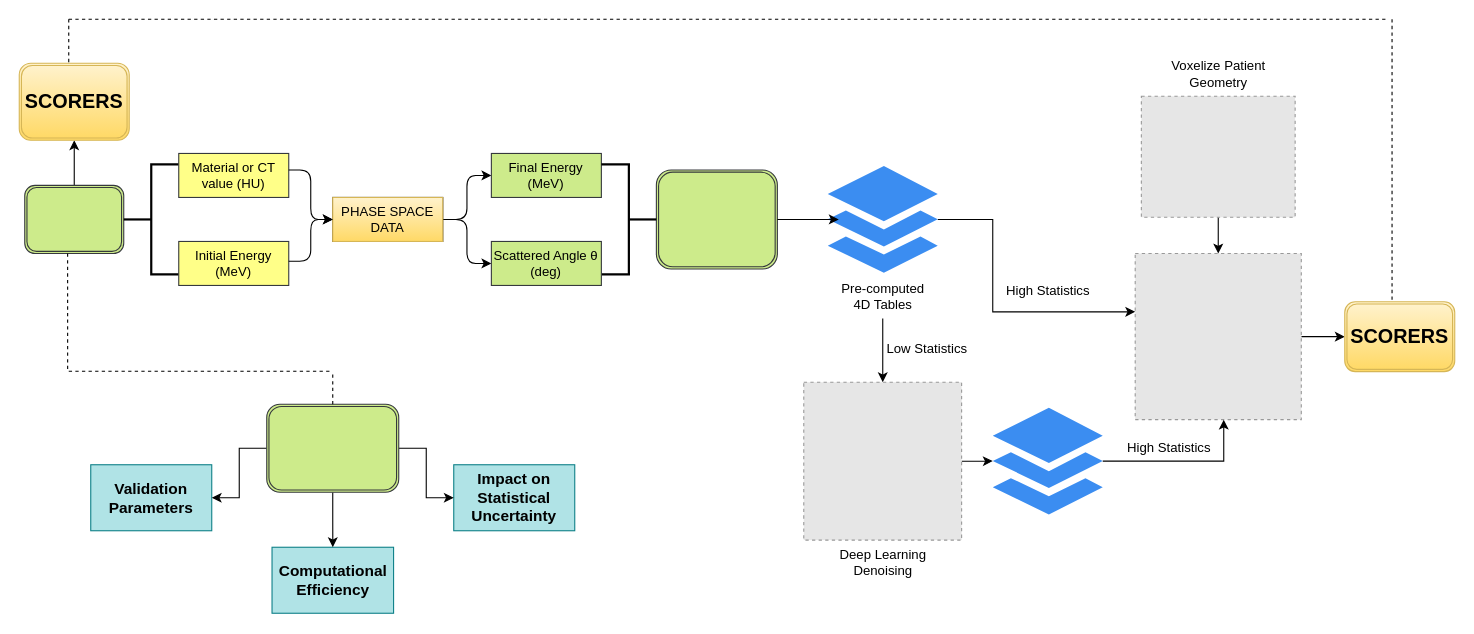
The diagram is 1474 pixels wide and 634 high, and some of its shapes have lost their labels. Grey dashed boxes stand in for pictures. The centre of each missing label's shape, as x and y in pixels:
CHANGE OF VARIABLES: (x=716, y=219)
TOPAS: (x=74, y=219)
TOPAS INITIAL SETUP: (x=332, y=447)
